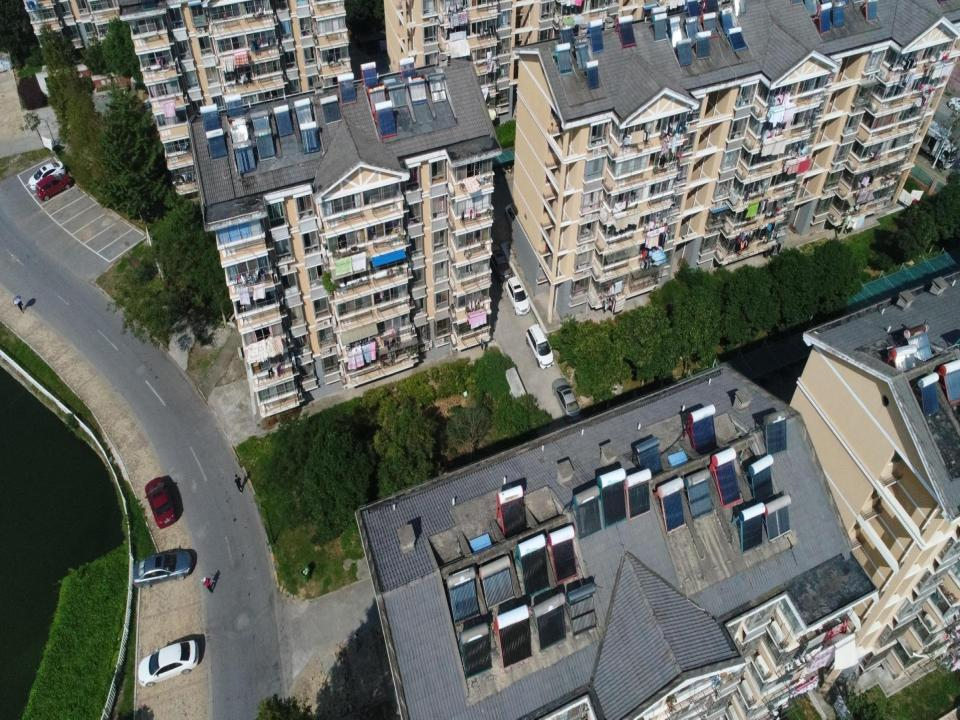car: (138, 639, 199, 688), (133, 548, 193, 590), (145, 477, 176, 530), (551, 378, 582, 424), (525, 324, 555, 370), (484, 242, 514, 283), (29, 160, 66, 191), (36, 172, 73, 201), (504, 276, 530, 316), (504, 202, 526, 233)
